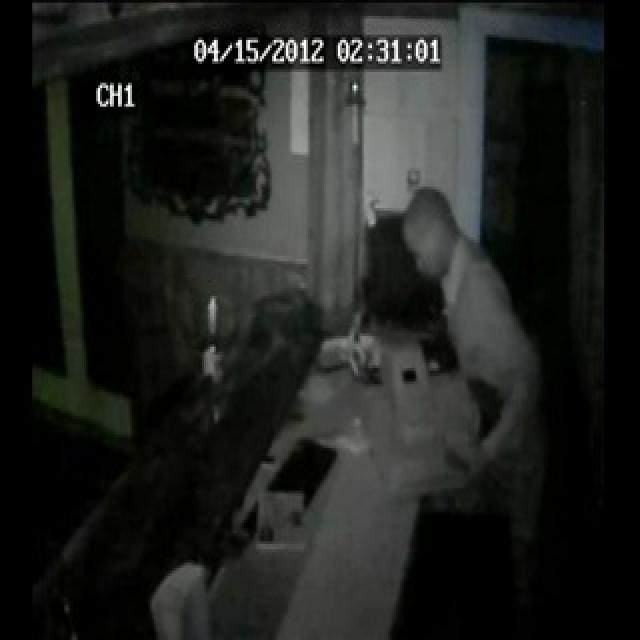thief: (386, 178, 471, 286)
